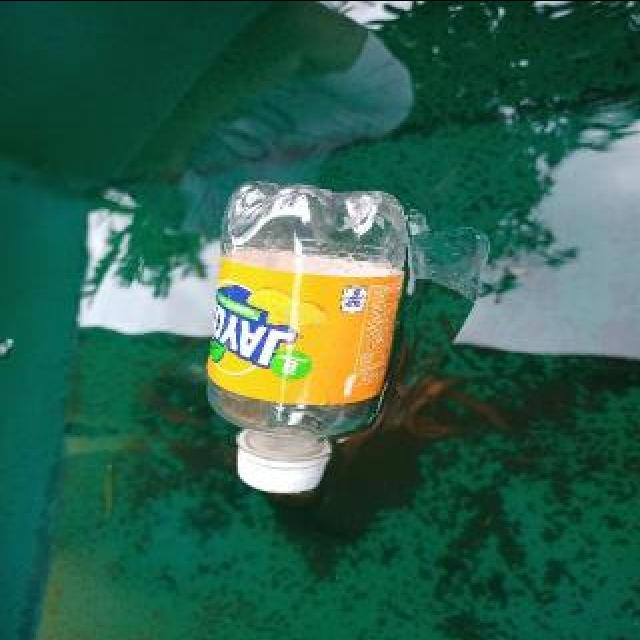Bottle: (199, 167, 420, 503)
